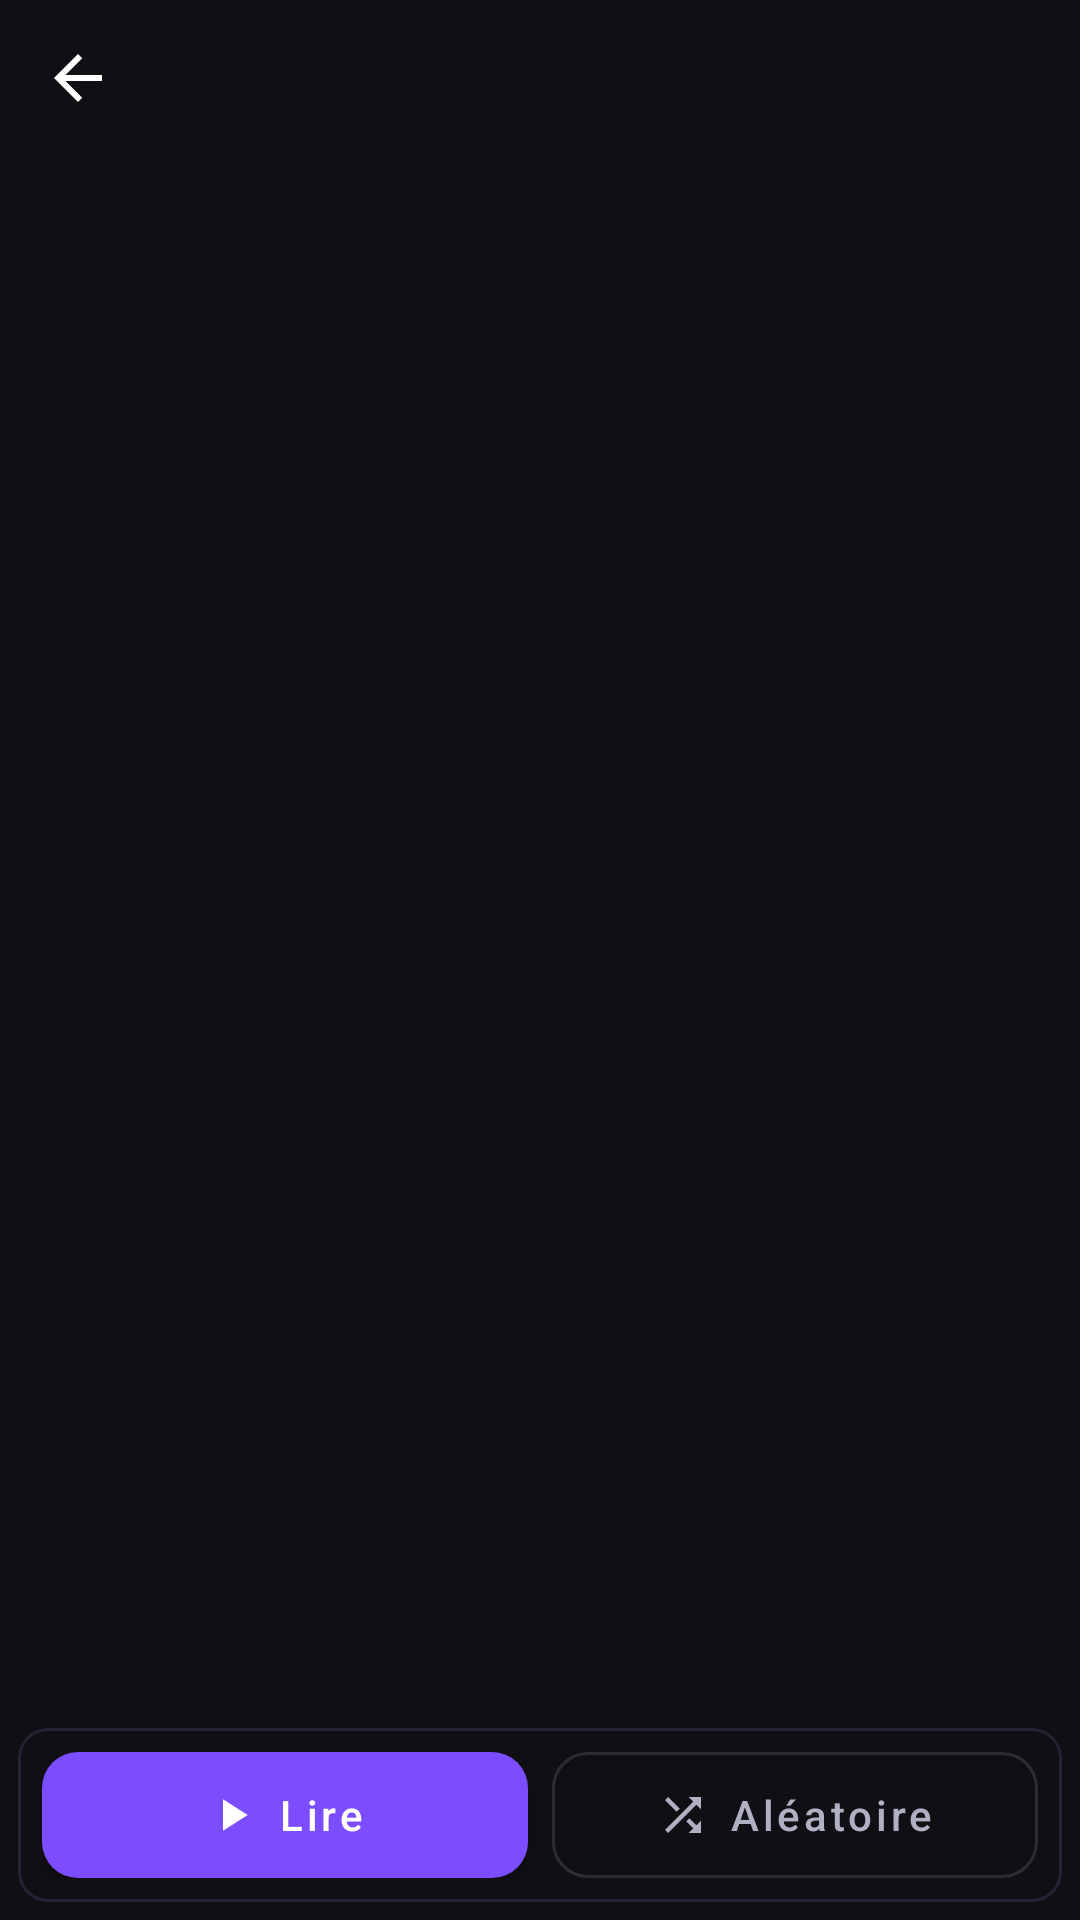

Icon bounding boxes for this 1080×1920 phone screenshot, format BBox(x1, y1, x2, y2):
Retour: BBox(54, 54, 102, 102)
